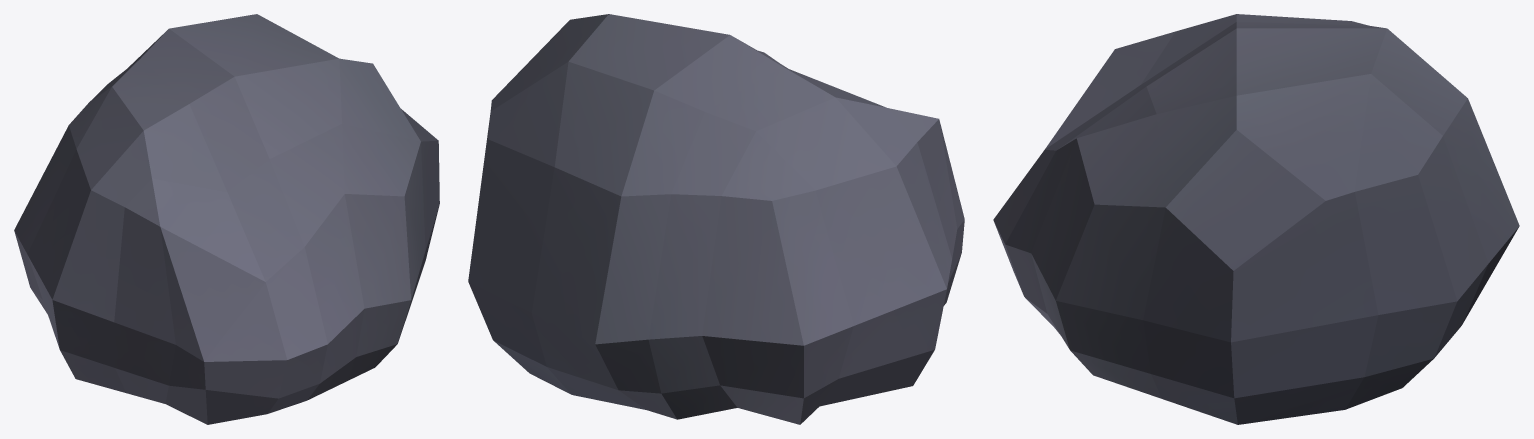
Rendered from F_Stone_Walk_5.fbx.
3 renders of one model, left to right at view 1: azimuth 30°, elevation 25°; view 2: azimuth 150°, elevation 25°; view 3: azimuth 270°, elevation 25°, orthographic. The views are drawn at different scales.
Visible parts, largest first — view 1: F_Stone_Walk_5; view 2: F_Stone_Walk_5; view 3: F_Stone_Walk_5.
Boxes of the visible parts, x1,y1,x2,y2 form: F_Stone_Walk_5: (14, 14, 439, 424); F_Stone_Walk_5: (468, 14, 964, 424); F_Stone_Walk_5: (993, 14, 1519, 424).
Bounding box in the file's own units: 1.68 × 1.07 × 1.64.
Materials: 1 (1 with a texture image).
